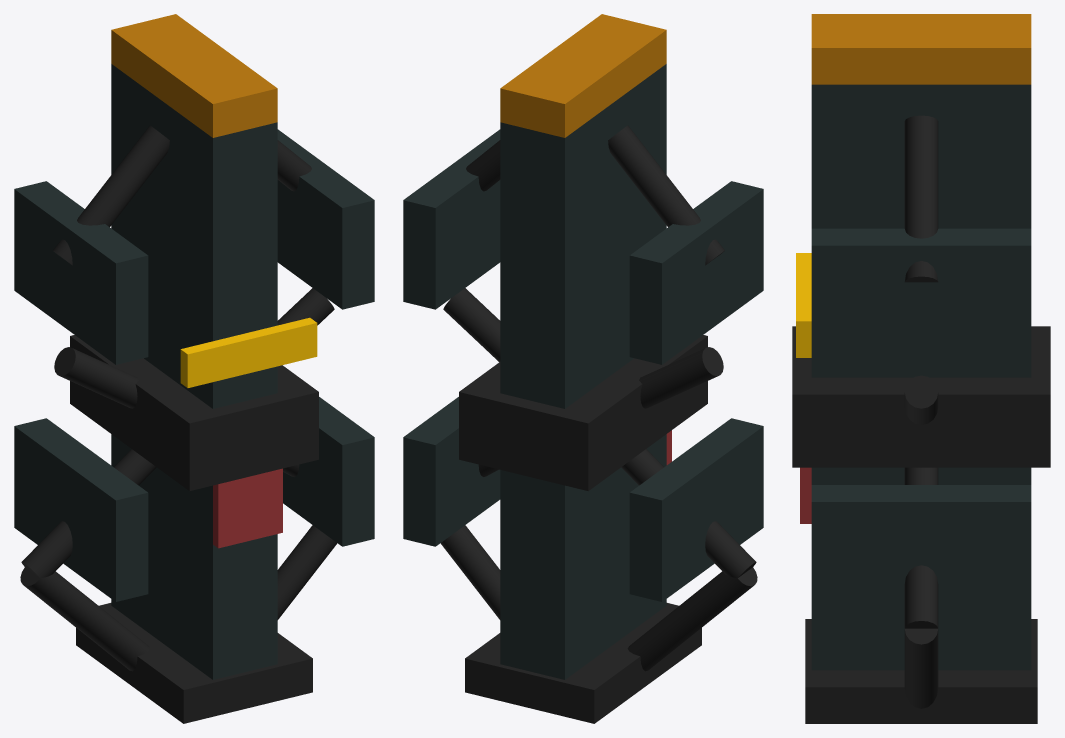
Rendered from CMU3DSentryOmniPackedCloud.glb.
3 views of the same model, side by side, from view 1: azimuth 30°, elevation 25°; view 2: azimuth 150°, elevation 25°; view 3: azimuth 270°, elevation 25° (orthographic). The views are drawn at different scales.
Parts seen in each view (by area): view 1: folded upper central exterior, folded lower central exterior, folded central hinge, folded upper side plate 12, folded lower side plate 12, rear top cap, folded upper side plate 19, lower resting pad, folded lower side plate 19, upper amber exterior band, red front status recess, folded exterior stay 6 (+6 smaller); view 2: folded upper central exterior, folded lower central exterior, folded central hinge, folded upper side plate 12, folded lower side plate 12, rear top cap, folded upper side plate 19, lower resting pad, folded lower side plate 19, folded exterior stay 6, folded exterior stay 0, folded exterior stay 2 (+4 smaller); view 3: folded upper central exterior, folded upper side plate 19, folded lower side plate 19, folded central hinge, rear top cap, folded lower central exterior, lower resting pad, folded exterior stay 1, folded exterior stay 5, folded exterior stay 7, upper amber exterior band, folded exterior stay 3 (+1 smaller).
Boxes of the visible parts, bbox=[...] form: folded upper central exterior: bbox=[111, 64, 277, 408]; folded lower central exterior: bbox=[111, 434, 277, 679]; folded central hinge: bbox=[70, 335, 318, 491]; folded upper side plate 12: bbox=[14, 181, 148, 364]; folded lower side plate 12: bbox=[14, 418, 148, 601]; rear top cap: bbox=[111, 14, 277, 137]; folded upper side plate 19: bbox=[277, 129, 374, 309]; lower resting pad: bbox=[76, 603, 312, 723]; folded lower side plate 19: bbox=[283, 397, 374, 546]; upper amber exterior band: bbox=[180, 317, 317, 387]; red front status recess: bbox=[213, 468, 282, 548]; folded exterior stay 6: bbox=[20, 567, 150, 671]; folded upper central exterior: bbox=[500, 64, 666, 408]; folded lower central exterior: bbox=[500, 434, 666, 679]; folded central hinge: bbox=[459, 335, 707, 491]; folded upper side plate 12: bbox=[629, 181, 763, 364]; folded lower side plate 12: bbox=[629, 418, 763, 601]; rear top cap: bbox=[500, 14, 666, 137]; folded upper side plate 19: bbox=[403, 129, 500, 309]; lower resting pad: bbox=[465, 603, 701, 723]; folded lower side plate 19: bbox=[403, 397, 500, 546]; folded exterior stay 6: bbox=[627, 567, 757, 671]; folded exterior stay 0: bbox=[608, 125, 724, 265]; folded exterior stay 2: bbox=[639, 347, 723, 408]; folded upper central exterior: bbox=[811, 84, 1031, 377]; folded upper side plate 19: bbox=[811, 228, 1031, 355]; folded lower side plate 19: bbox=[811, 485, 1031, 611]; folded central hinge: bbox=[792, 326, 1050, 467]; rear top cap: bbox=[811, 14, 1031, 84]; folded lower central exterior: bbox=[811, 467, 1031, 670]; lower resting pad: bbox=[805, 619, 1037, 723]; folded exterior stay 1: bbox=[904, 115, 938, 282]; folded exterior stay 5: bbox=[904, 467, 938, 628]; folded exterior stay 7: bbox=[904, 628, 938, 708]; upper amber exterior band: bbox=[796, 253, 811, 357]; folded exterior stay 3: bbox=[904, 375, 938, 424].
Size of the model in its own units: 0.3309 by 0.5717 by 0.2.
